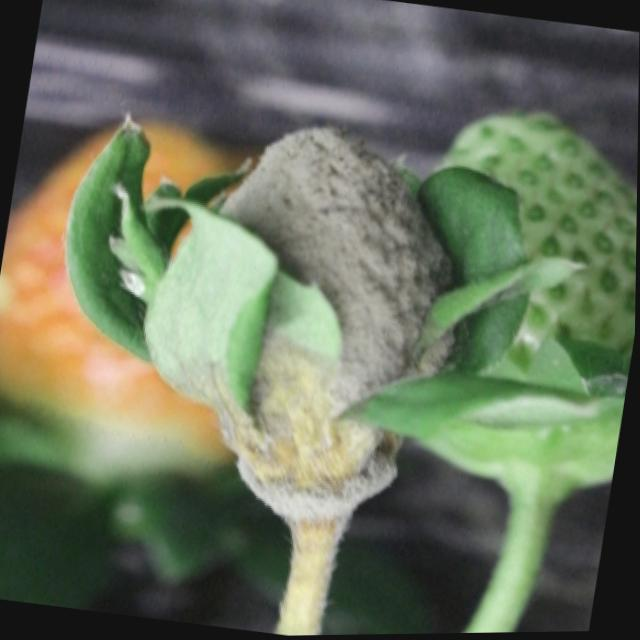Gray Mold: (174, 126, 459, 556)
